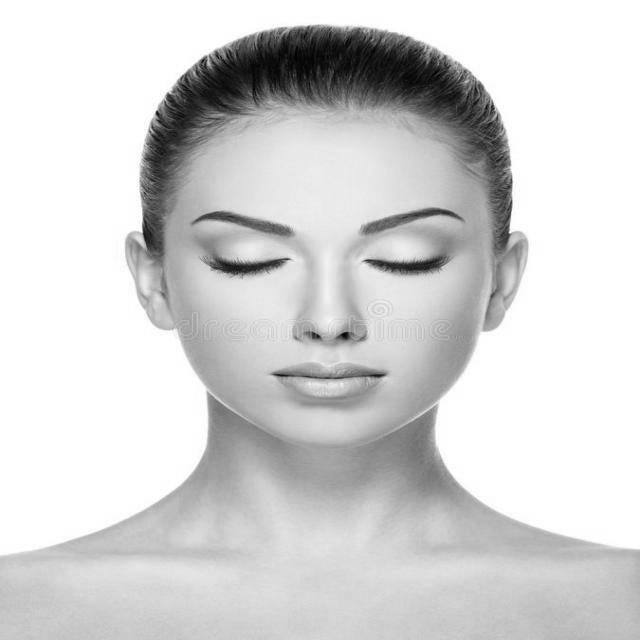real: (122, 70, 530, 451), (174, 202, 484, 291)
